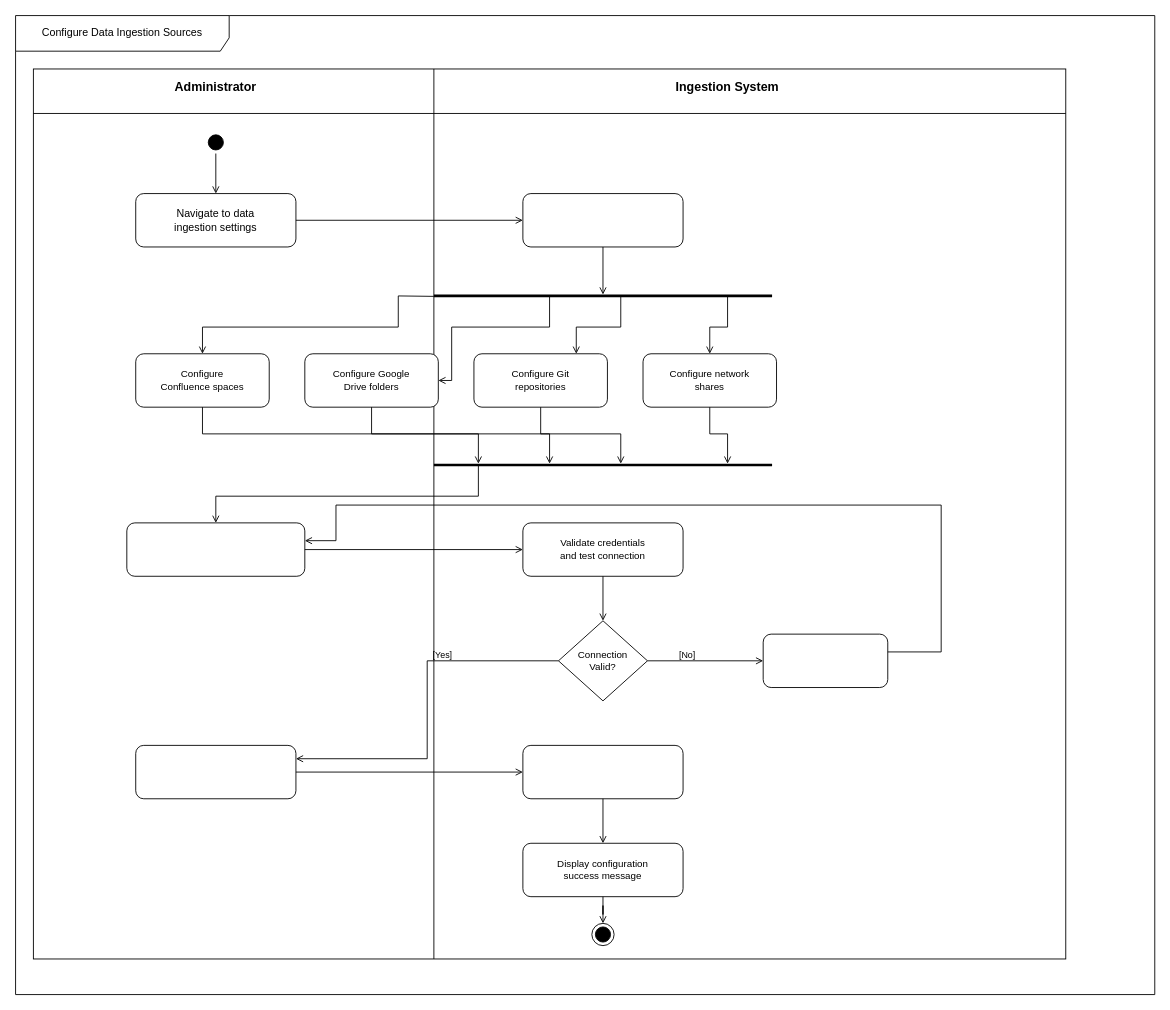
The diagram is 1170 pixels wide and 1010 high, and some of its shapes have lost their labels. The shapes that lost their labels are listed below. From the top down, each one's centre as x and y in pixels, then its label:
the point at 602,220: Display available data source types
the point at 215,549: Provide authentication credentials and permissions
the point at 825,660: Display connection error details
the point at 215,771: Configure refresh schedule
the point at 602,771: Save configuration to database
